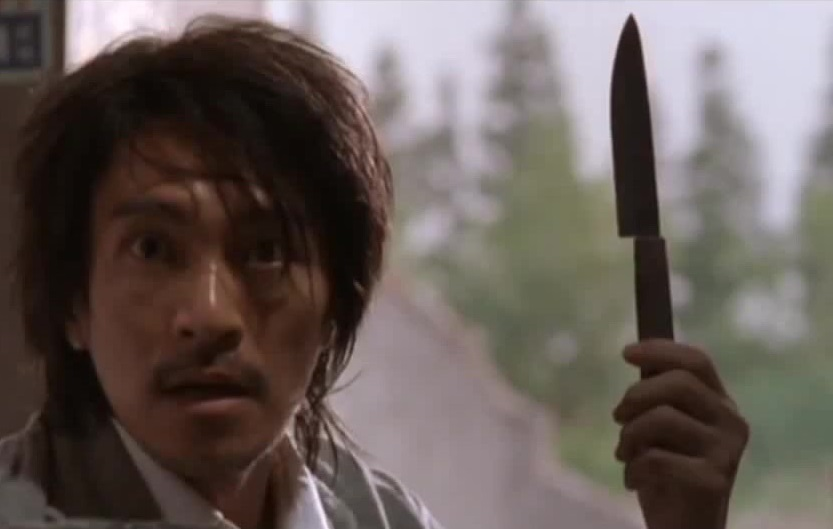knife: (593, 5, 690, 409)
